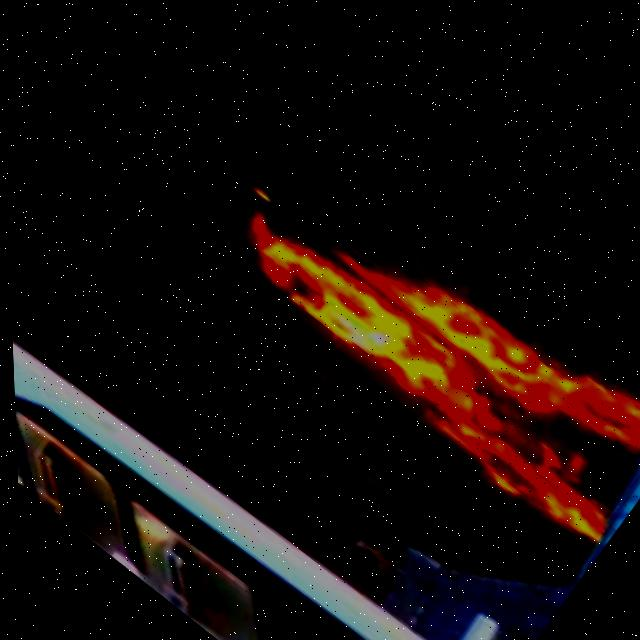Fire: (226, 147, 640, 556)
